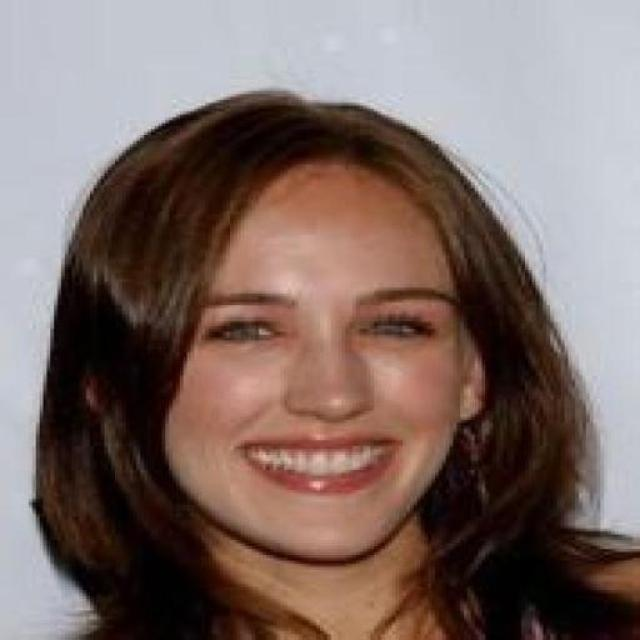bareface: (121, 138, 475, 590)
